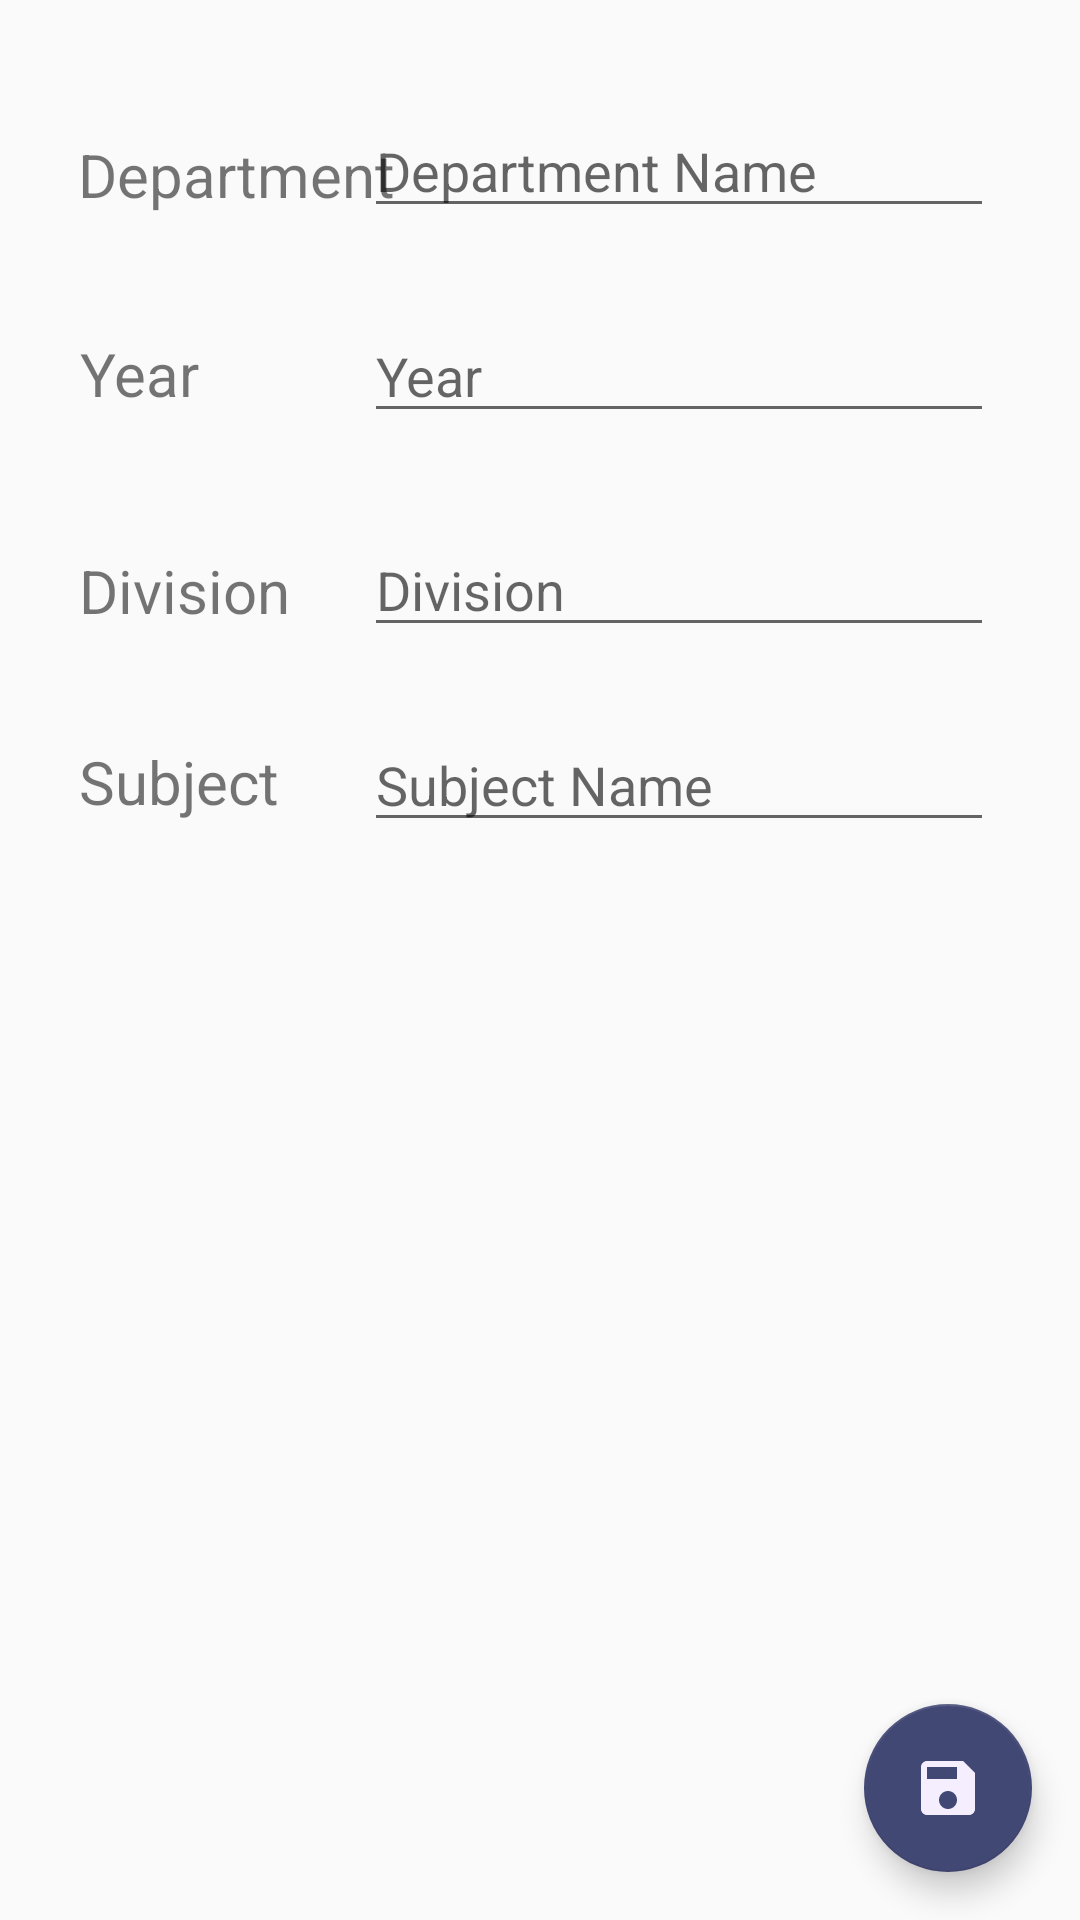

Named icons in this screenshot (1080px x 1920px) and their bounding boxes, rect(x1, y1, x2, y2):
save: rect(864, 1704, 1032, 1872)
